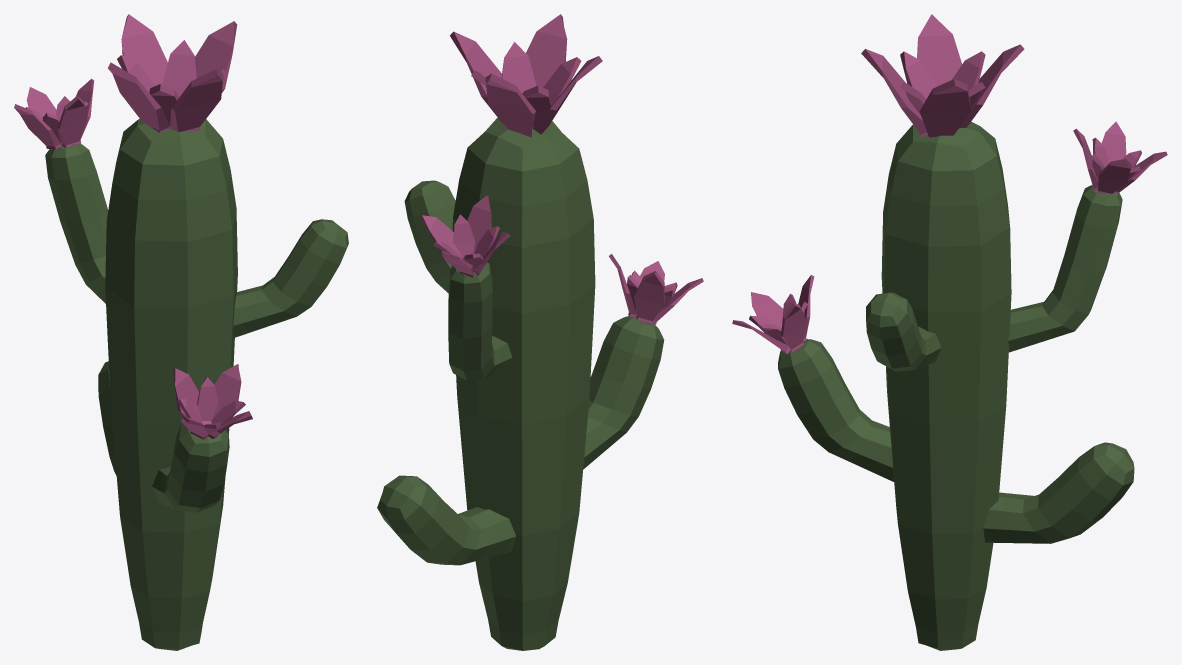
The model's file is CactusFlowers_2.glb.
3 views of the same model, side by side, from view 1: azimuth 30°, elevation 25°; view 2: azimuth 150°, elevation 25°; view 3: azimuth 270°, elevation 25° (orthographic).
Parts seen in each view (by area): view 1: CactusFlowers_2_Cube.015; view 2: CactusFlowers_2_Cube.015; view 3: CactusFlowers_2_Cube.015.
Boxes of the visible parts, x1,y1,x2,y2 form: CactusFlowers_2_Cube.015: (14, 14, 348, 650); CactusFlowers_2_Cube.015: (377, 14, 703, 650); CactusFlowers_2_Cube.015: (732, 14, 1167, 650).
Bounding box in the file's own units: 0.7653 × 1.94 × 1.28.
